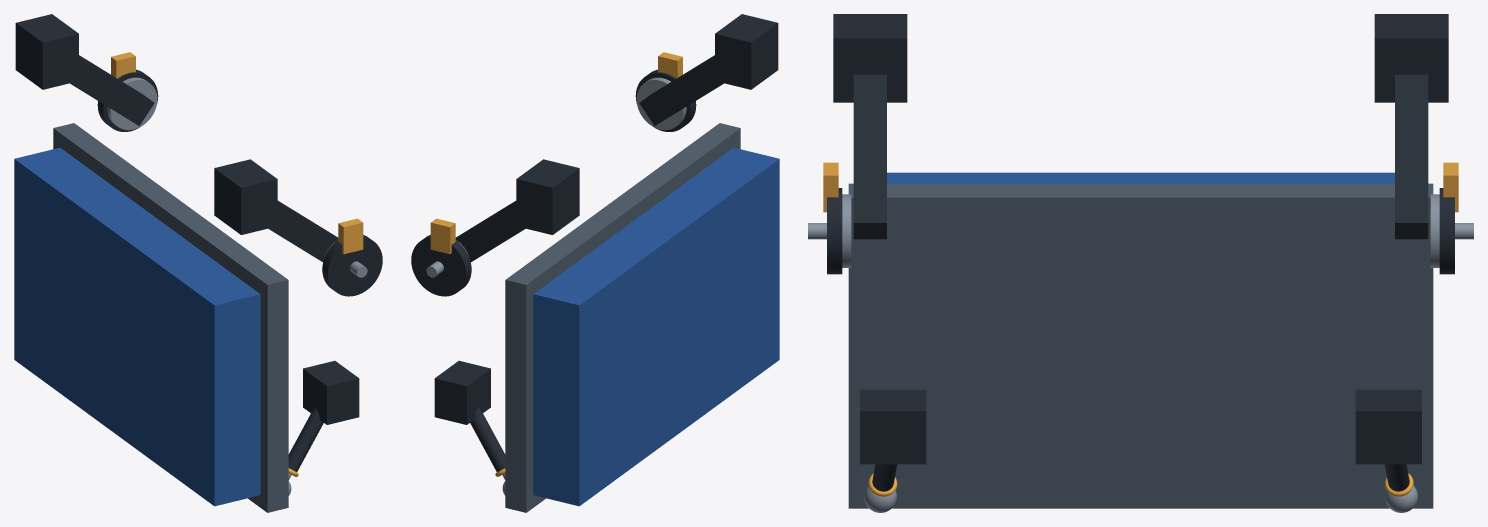
Rendered from hcd_foldable_lean_rest.glb.
The picture shows the model from 3 angles, left to right: view 1: azimuth 30°, elevation 25°; view 2: azimuth 150°, elevation 25°; view 3: azimuth 270°, elevation 25°; orthographic projection. The views are drawn at different scales.
Parts seen in each view (by area): view 1: HCD_Rest_Cushion, HCD_Rest_Panel_Shell, HCD_Clamp_Saddle_Left, HCD_Clamp_Saddle_Right, HCD_Stay_Mount_Left, HCD_Drop_Bracket_Right, HCD_Hinge_Mount_Left, HCD_Drop_Bracket_Left, HCD_Stay_Outer_Tube_Left, HCD_Hinge_Ear_Right, HCD_Hinge_Lock_Tab_Left, HCD_Hinge_Mount_Right (+1 smaller); view 2: HCD_Rest_Cushion, HCD_Rest_Panel_Shell, HCD_Clamp_Saddle_Left, HCD_Clamp_Saddle_Right, HCD_Stay_Mount_Right, HCD_Drop_Bracket_Left, HCD_Hinge_Mount_Right, HCD_Drop_Bracket_Right, HCD_Stay_Outer_Tube_Right, HCD_Hinge_Ear_Left, HCD_Hinge_Lock_Tab_Right, HCD_Hinge_Mount_Left (+1 smaller); view 3: HCD_Rest_Panel_Shell, HCD_Rest_Cushion, HCD_Clamp_Saddle_Left, HCD_Clamp_Saddle_Right, HCD_Drop_Bracket_Left, HCD_Drop_Bracket_Right, HCD_Stay_Mount_Left, HCD_Stay_Mount_Right, HCD_Hinge_Mount_Left, HCD_Hinge_Mount_Right, HCD_Hinge_Ear_Left, HCD_Hinge_Ear_Right.
Boxes of the visible parts, x1,y1,x2,y2 form: HCD_Rest_Cushion: (14, 147, 260, 506); HCD_Rest_Panel_Shell: (53, 123, 288, 512); HCD_Clamp_Saddle_Left: (214, 159, 277, 234); HCD_Clamp_Saddle_Right: (15, 14, 78, 89); HCD_Stay_Mount_Left: (303, 360, 359, 424); HCD_Drop_Bracket_Right: (70, 55, 154, 125); HCD_Hinge_Mount_Left: (322, 235, 382, 296); HCD_Drop_Bracket_Left: (268, 201, 338, 261); HCD_Stay_Outer_Tube_Left: (288, 407, 323, 471); HCD_Hinge_Ear_Right: (107, 77, 157, 130); HCD_Hinge_Lock_Tab_Left: (338, 218, 363, 254); HCD_Hinge_Mount_Right: (97, 69, 158, 131); HCD_Rest_Cushion: (533, 147, 779, 506); HCD_Rest_Panel_Shell: (505, 123, 740, 512); HCD_Clamp_Saddle_Left: (715, 14, 778, 89); HCD_Clamp_Saddle_Right: (516, 159, 579, 234); HCD_Stay_Mount_Right: (434, 360, 490, 424); HCD_Drop_Bracket_Left: (639, 55, 723, 125); HCD_Hinge_Mount_Right: (411, 235, 471, 296); HCD_Drop_Bracket_Right: (455, 201, 525, 261); HCD_Stay_Outer_Tube_Right: (470, 407, 505, 471); HCD_Hinge_Ear_Left: (636, 77, 686, 130); HCD_Hinge_Lock_Tab_Right: (430, 218, 455, 254); HCD_Hinge_Mount_Left: (635, 69, 696, 131); HCD_Rest_Panel_Shell: (848, 183, 1433, 508); HCD_Rest_Cushion: (887, 172, 1394, 183); HCD_Clamp_Saddle_Left: (833, 14, 907, 102); HCD_Clamp_Saddle_Right: (1374, 14, 1448, 102); HCD_Drop_Bracket_Left: (853, 74, 886, 239); HCD_Drop_Bracket_Right: (1395, 74, 1428, 239); HCD_Stay_Mount_Left: (860, 389, 926, 464); HCD_Stay_Mount_Right: (1355, 389, 1421, 464); HCD_Hinge_Mount_Left: (827, 188, 842, 274); HCD_Hinge_Mount_Right: (1439, 188, 1454, 274); HCD_Hinge_Ear_Left: (842, 194, 851, 267); HCD_Hinge_Ear_Right: (1430, 194, 1439, 267).
Bounding box in the file's own units: 0.19 × 0.4 × 0.524.
